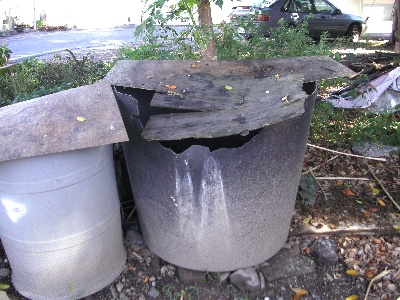bucket: (107, 81, 321, 270), (1, 140, 128, 299)
